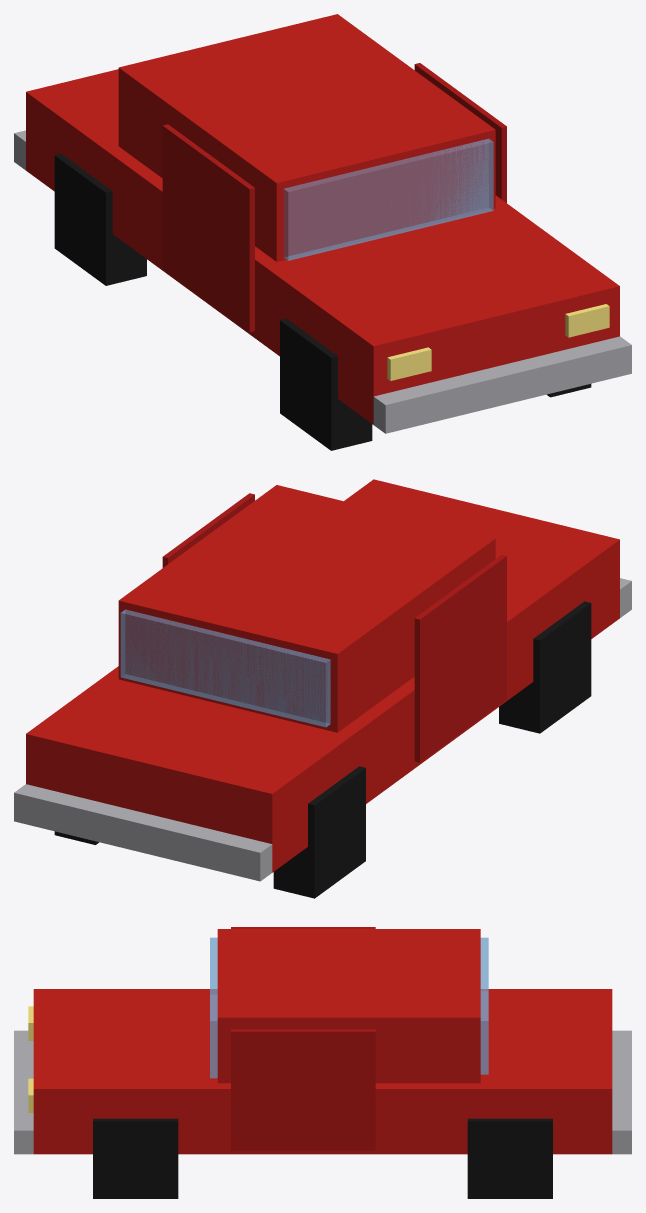
The model's file is car.obj.
3 renders of one model, top to bottom at view 1: azimuth 30°, elevation 25°; view 2: azimuth 150°, elevation 25°; view 3: azimuth 270°, elevation 25°, orthographic. The views are drawn at different scales.
Visible parts, largest first — view 1: cabin, chassis, windshield, door_right, bumper_front, wheel_rear_right, wheel_front_right, door_left, headlight_left, headlight_right; view 2: chassis, cabin, rear_window, door_right, bumper_rear, wheel_front_right, wheel_rear_right, door_left; view 3: chassis, cabin, door_left, wheel_front_left, wheel_rear_left, bumper_rear, bumper_front, rear_window, windshield.
Part boxes in pixels (box(x1,y1,x2,y2)): cabin: box(118, 14, 495, 261); chassis: box(26, 69, 619, 424); windshield: box(283, 138, 493, 260); door_right: box(162, 124, 254, 332); bumper_front: box(373, 336, 631, 433); wheel_rear_right: box(54, 153, 146, 285); wheel_front_right: box(280, 318, 372, 450); door_left: box(414, 63, 506, 202); headlight_left: box(565, 304, 609, 337); headlight_right: box(387, 347, 431, 380); chassis: box(26, 479, 619, 872); cabin: box(118, 485, 495, 732); rear_window: box(120, 609, 330, 727); door_right: box(414, 554, 506, 762); bumper_rear: box(14, 784, 272, 881); wheel_front_right: box(499, 601, 591, 733); wheel_rear_right: box(273, 766, 365, 898); door_left: box(162, 493, 254, 567); chassis: box(33, 989, 612, 1154); cabin: box(217, 929, 480, 1083); door_left: box(231, 1029, 375, 1150); wheel_front_left: box(93, 1118, 178, 1198); wheel_rear_left: box(467, 1118, 552, 1198); bumper_rear: box(612, 1030, 631, 1154); bumper_front: box(14, 1030, 33, 1154); rear_window: box(480, 937, 488, 1074); windshield: box(210, 937, 217, 1078).
Bounding box in the file's own units: 1.9 × 1.45 × 4.7.
